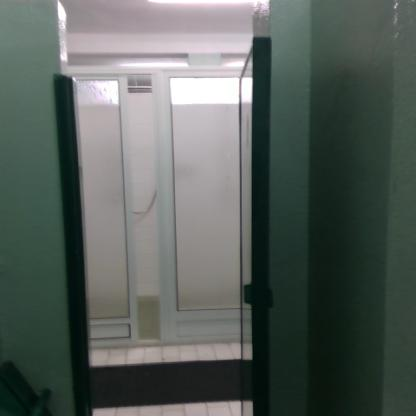closed: (157, 70, 245, 340)
open: (31, 37, 313, 416)
